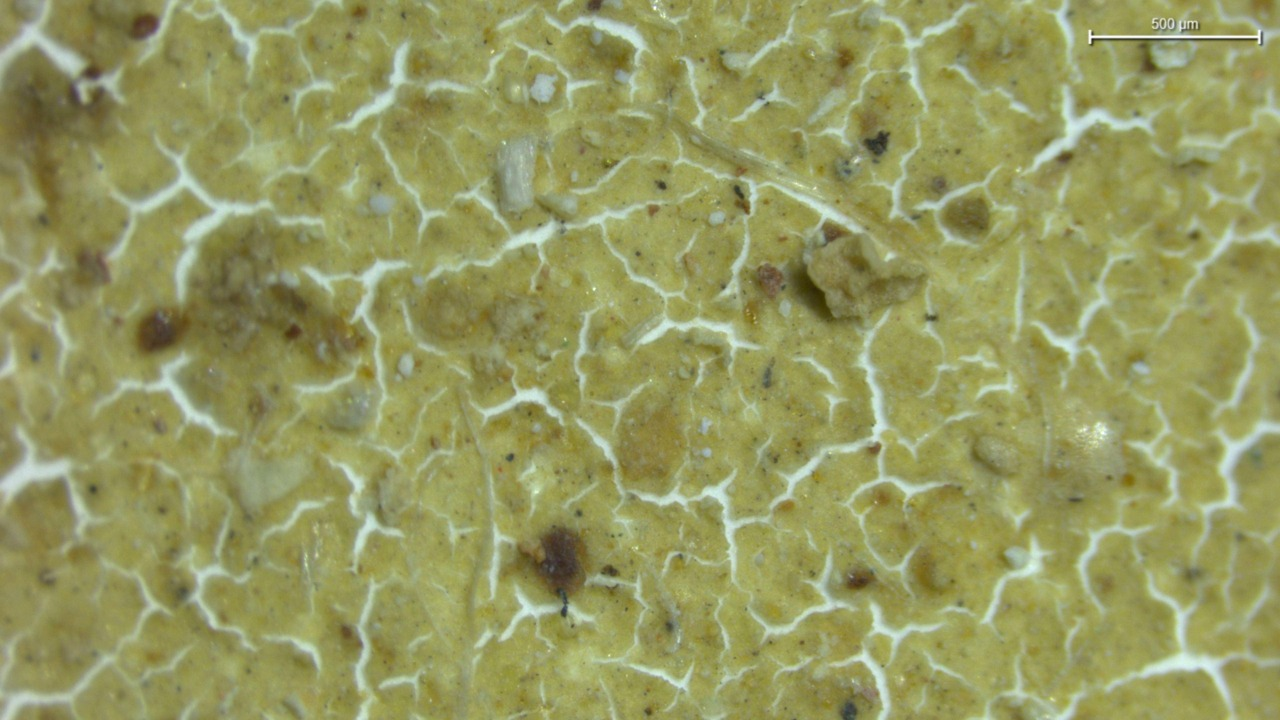microplastic_fragment: (809, 235, 930, 319), (499, 138, 537, 220), (529, 73, 559, 101)
